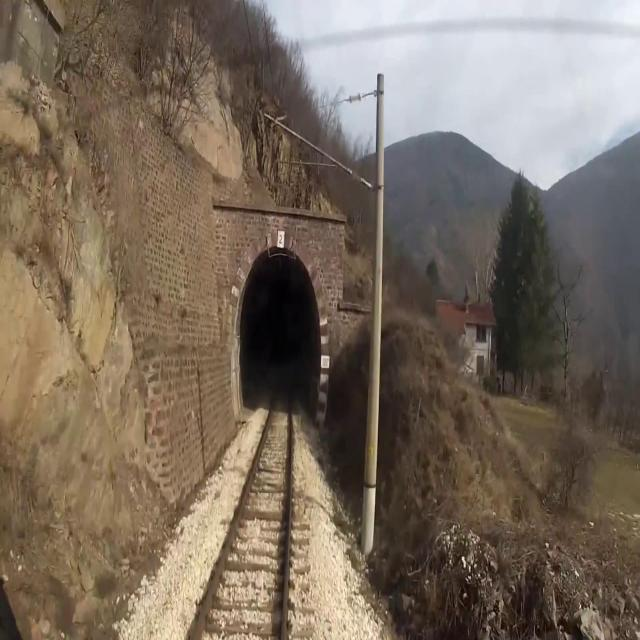rail-track: (199, 375, 290, 639)
